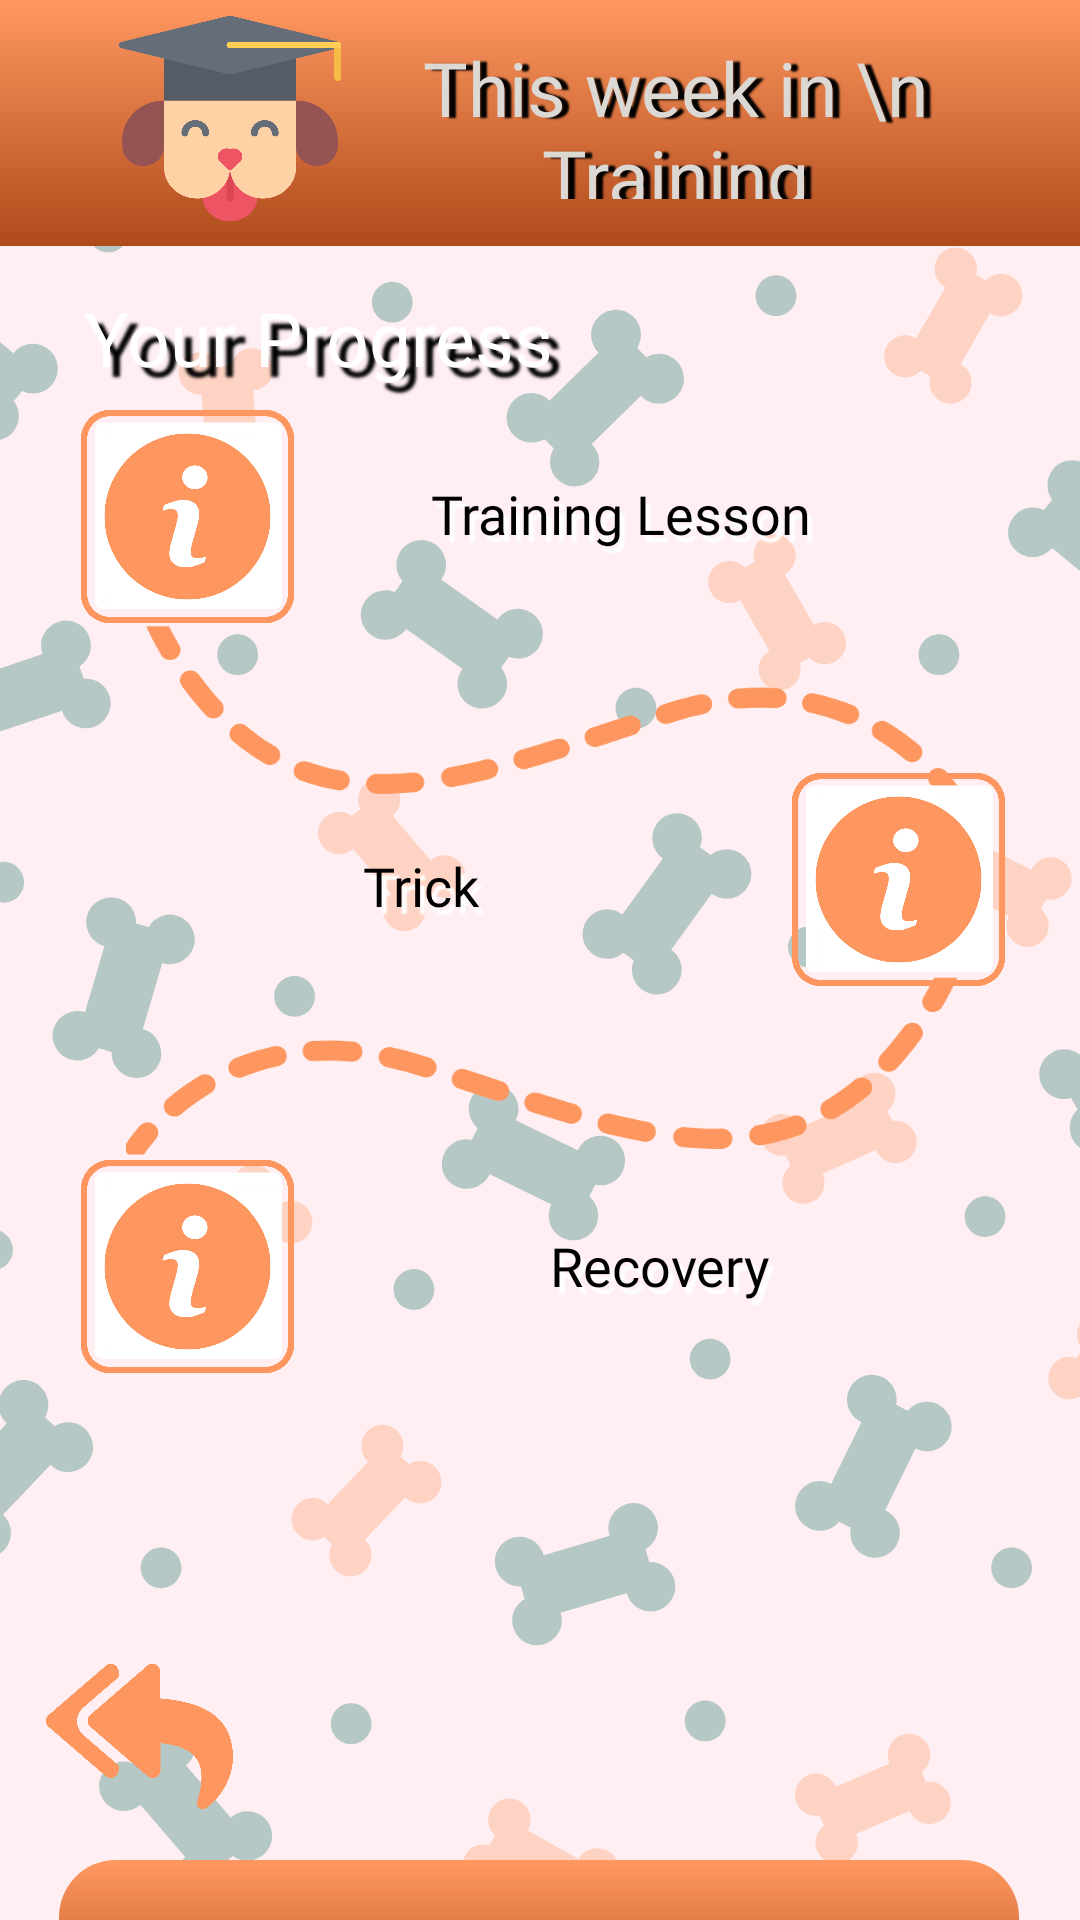

Named icons in this screenshot (1080w x 1920h) and their bounding boxes, (x1, y1, x2, y2):
backbutton: (46, 1664, 237, 1834)
training menu information: (105, 434, 270, 599), (816, 797, 981, 962), (81, 1160, 312, 1373)
